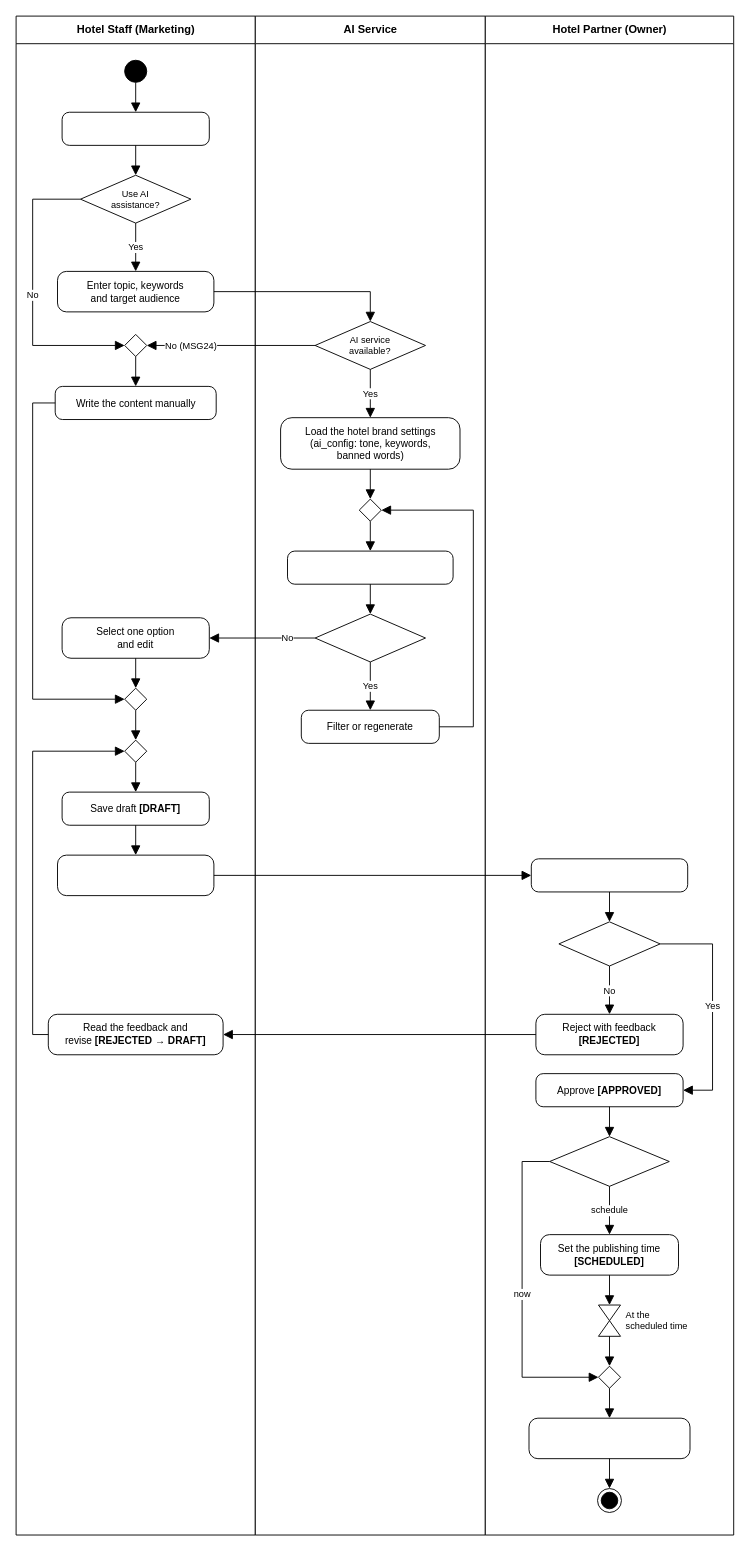
This 750x1551 diagram has some shape labels left out. The shapes that lost their labels are listed below. From the top down, each one's centre as x and y in pixels, then its label:
At (x=135, y=128): "Open the blog editor".
At (x=370, y=567): "Generate 3 content options".
At (x=370, y=637): "Violates guardrails?".
At (x=135, y=875): "Submit for review [PENDING_APPROVAL]".
At (x=609, y=875): "Review the pending post".
At (x=609, y=943): "Approve?".
At (x=609, y=1161): "Publish now or schedule?".
At (x=609, y=1438): "Publish the post on the hotel blog [PUBLISHED]".
